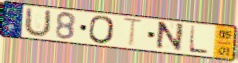8: (54, 11, 77, 41)
L: (187, 24, 210, 56)
N: (154, 20, 186, 53)
O: (88, 15, 117, 46)
T: (121, 16, 146, 49)
U: (22, 6, 53, 39)
